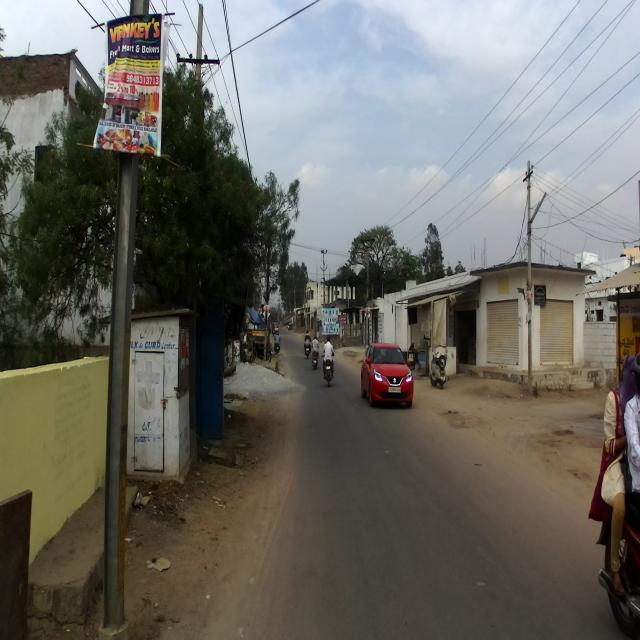car ahead at: (357, 336, 415, 406)
electric pole ahead at: (96, 0, 165, 631)
